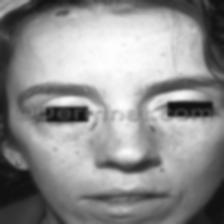Potentially Malignant Skin Tumors: (48, 8, 75, 22)
